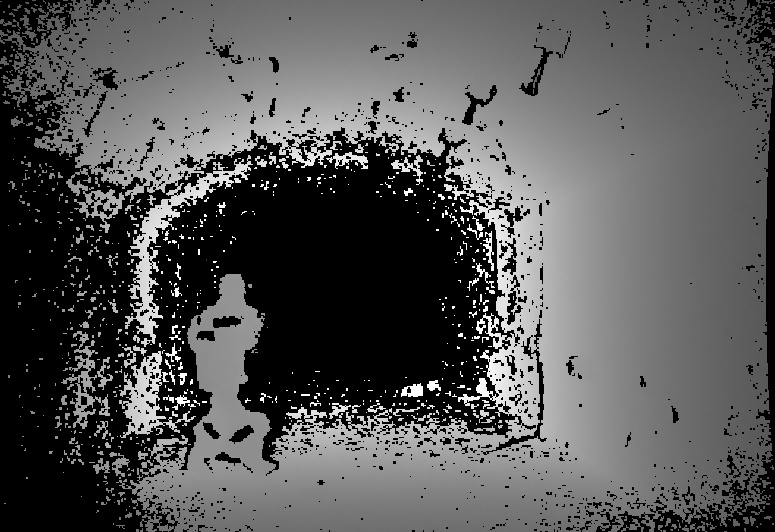person: (184, 271, 277, 476)
